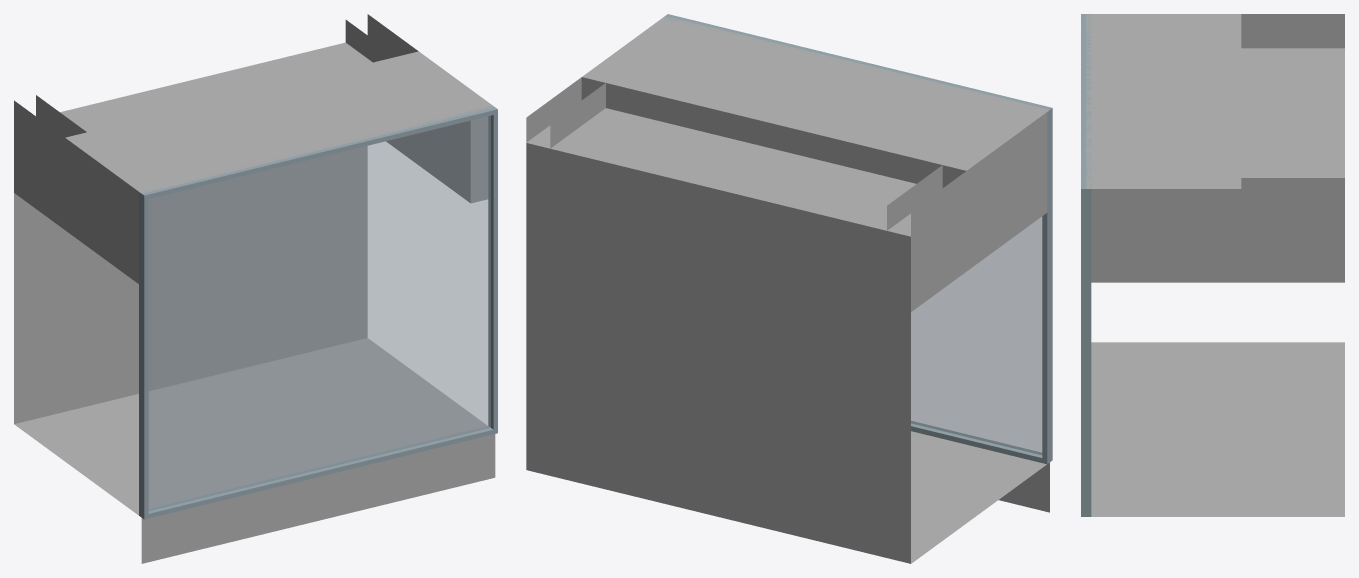
File: Window1.fbx
The picture shows the model from 3 angles, left to right: view 1: azimuth 30°, elevation 25°; view 2: azimuth 150°, elevation 25°; view 3: azimuth 270°, elevation 25°; orthographic projection. The views are drawn at different scales.
Parts seen in each view (by area): view 1: officeBuilding01_windowBig; view 2: officeBuilding01_windowBig; view 3: officeBuilding01_windowBig.
Boxes of the visible parts, box(x1,y1,x2,y2) form: officeBuilding01_windowBig: box(14, 14, 497, 563); officeBuilding01_windowBig: box(526, 14, 1052, 563); officeBuilding01_windowBig: box(1081, 14, 1344, 516).
Size of the model in its own units: 400 by 400 by 255.
